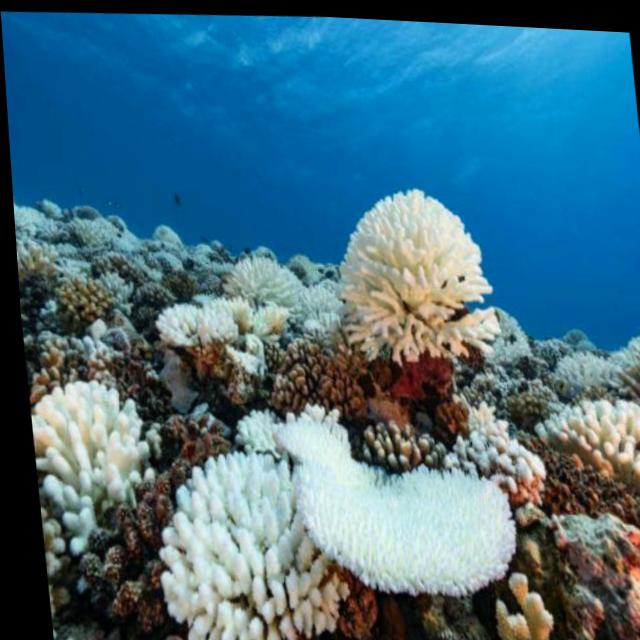Bleached Coral: (134, 394, 537, 640), (314, 158, 510, 371), (146, 242, 324, 368), (30, 370, 149, 558), (10, 184, 133, 292), (538, 380, 640, 496)
